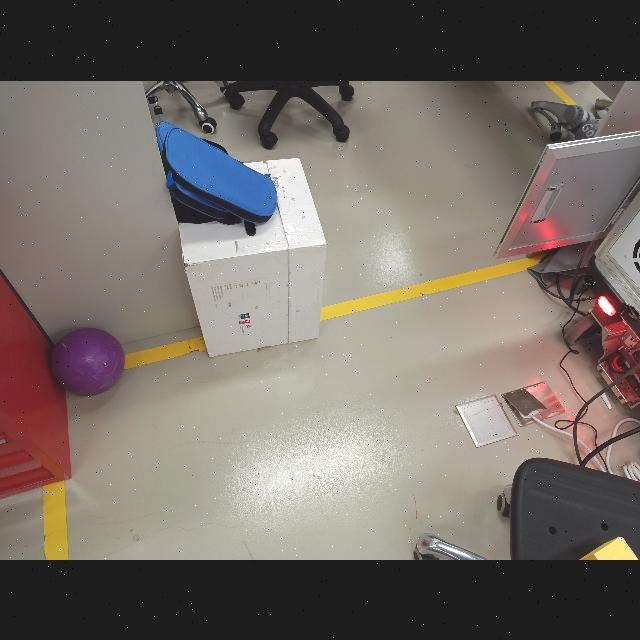P: (50, 326, 126, 396)
